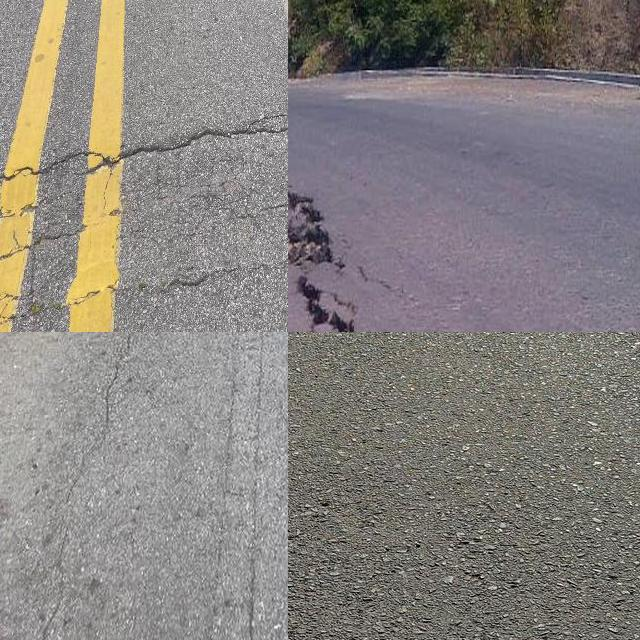Melintang: (0, 108, 288, 208)
